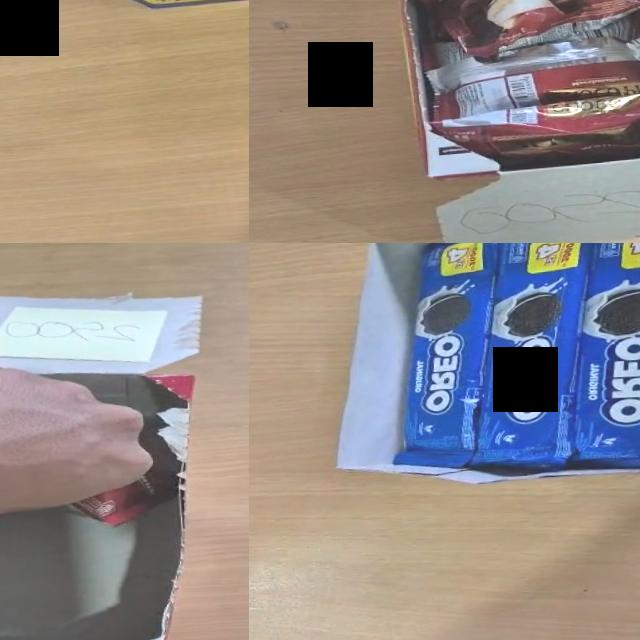Chocopie: (422, 29, 640, 119), (427, 91, 640, 175), (61, 413, 187, 530), (428, 0, 640, 63)
Oreo: (448, 243, 619, 479), (375, 243, 516, 473), (549, 243, 640, 474)
